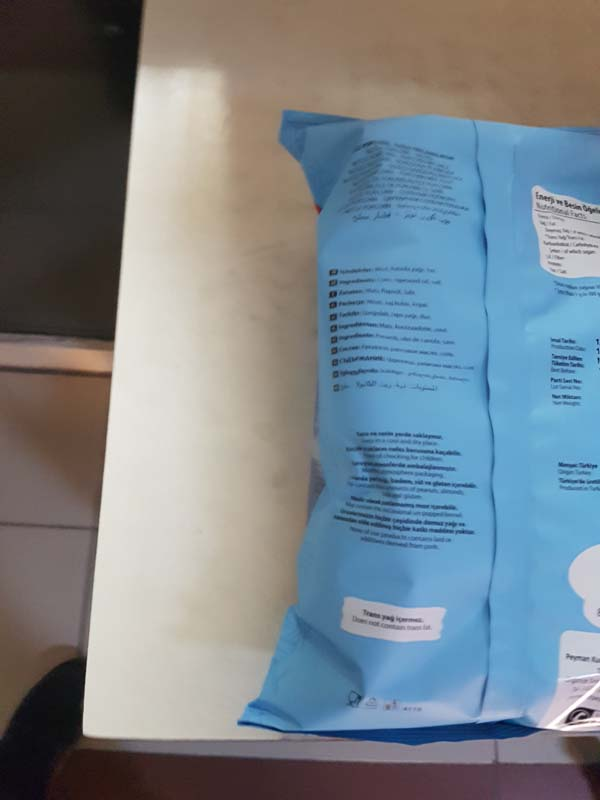popcorn: (271, 104, 600, 741)
